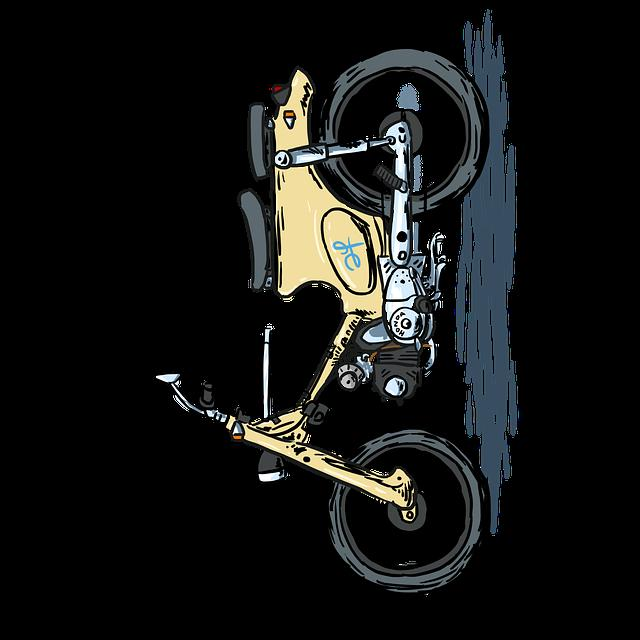Non_Gorille: (127, 0, 625, 627)
